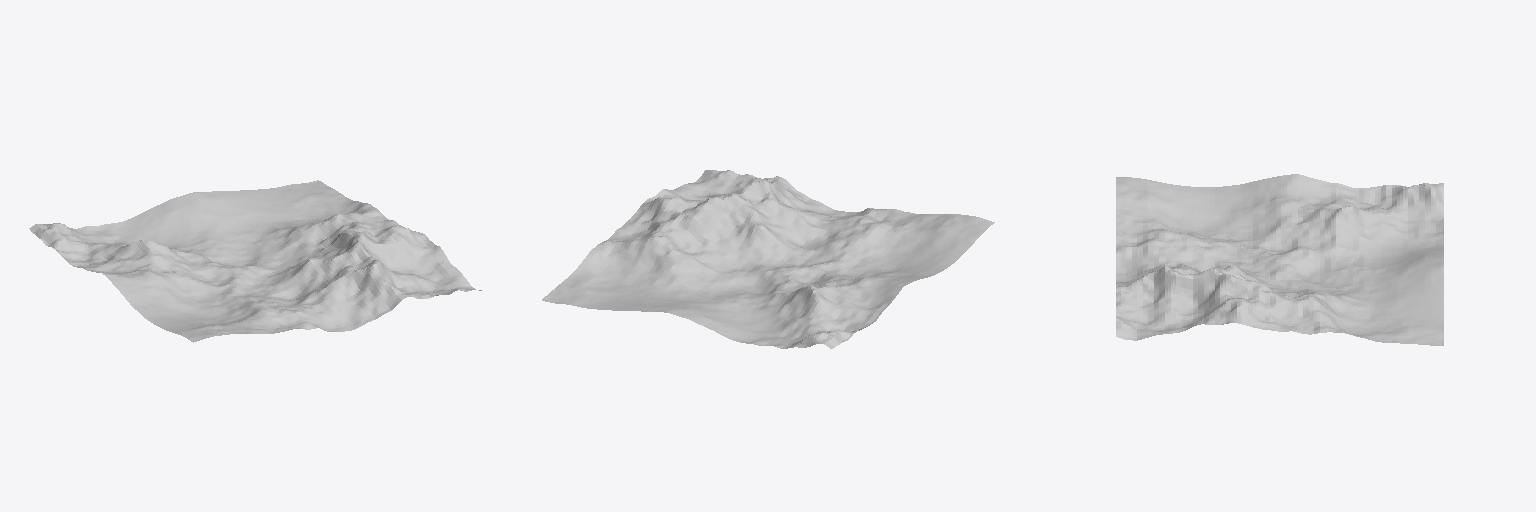
Rendered from ground15.obj.
The picture shows the model from 3 angles: view 1: azimuth 30°, elevation 25°; view 2: azimuth 150°, elevation 25°; view 3: azimuth 270°, elevation 25°; orthographic projection.
Parts seen in each view (by area): view 1: ground15; view 2: ground15; view 3: ground15.
Boxes of the visible parts, <box> form: ground15: <box>29,180,481,342</box>; ground15: <box>542,170,994,348</box>; ground15: <box>1116,174,1443,345</box>.
Size of the model in its own units: 79.94 by 10.81 by 78.51.